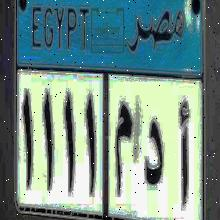1: (82, 89, 98, 195), (64, 89, 76, 193), (44, 92, 56, 185), (23, 90, 33, 186)
alif: (176, 98, 192, 202)
daal: (144, 118, 164, 184)
meem: (112, 96, 136, 198)
